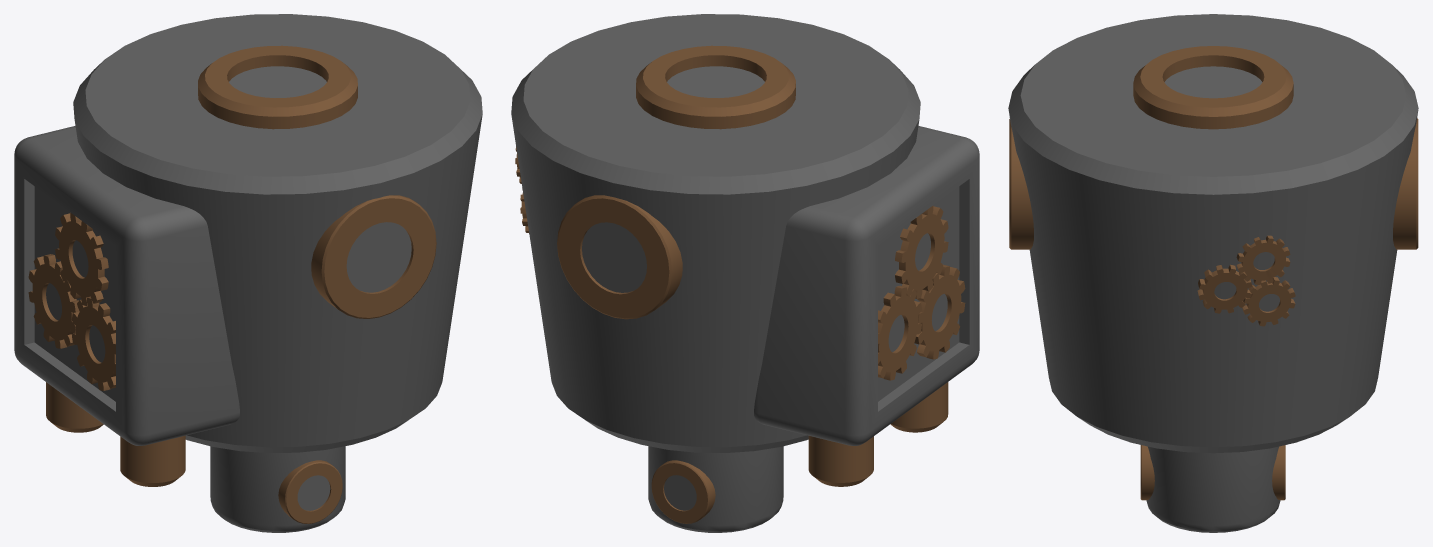
Rendered from Torso.fbx.
3 renders of one model, left to right at view 1: azimuth 30°, elevation 25°; view 2: azimuth 150°, elevation 25°; view 3: azimuth 270°, elevation 25°, orthographic.
Visible parts, largest first — view 1: Torso_1; view 2: Torso_1; view 3: Torso_1.
Boxes of the visible parts, bbox=[...] form: Torso_1: bbox=[14, 14, 482, 532]; Torso_1: bbox=[511, 14, 979, 532]; Torso_1: bbox=[1008, 14, 1418, 532].
Bounding box in the file's own units: 354 × 380 × 327.
